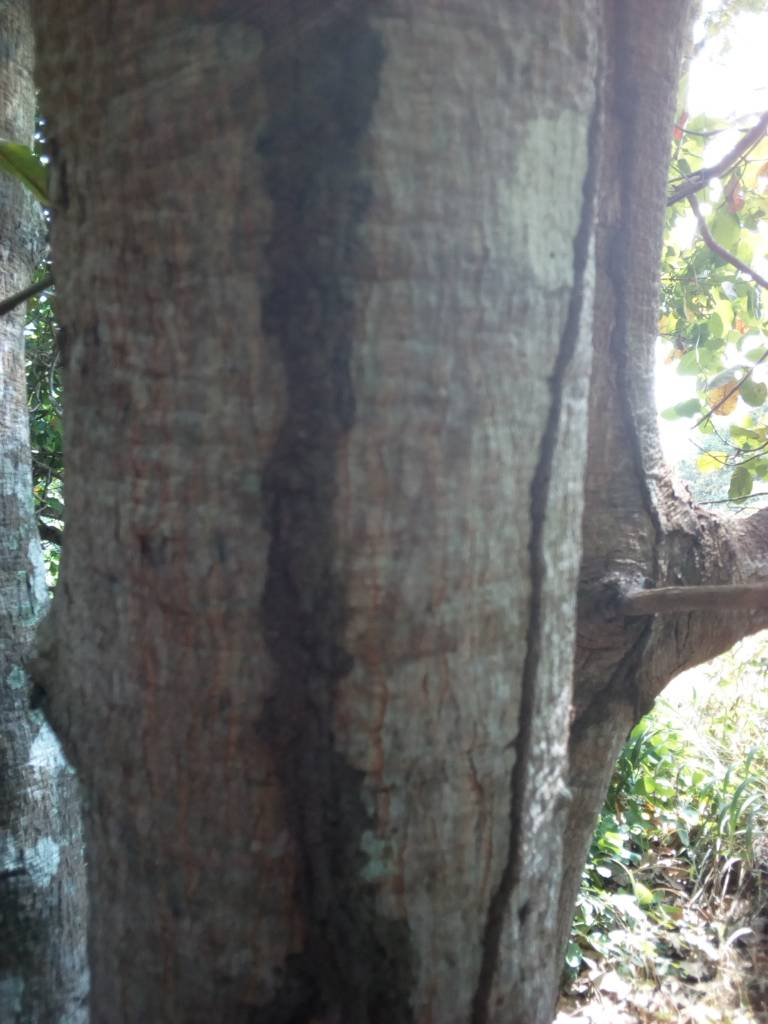Termites: (261, 7, 397, 1021), (472, 314, 546, 1024), (611, 49, 658, 538)
